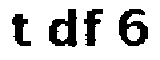6: (115, 2, 151, 49)
d: (45, 6, 78, 49)
f: (83, 6, 106, 50)
t: (6, 9, 32, 50)
